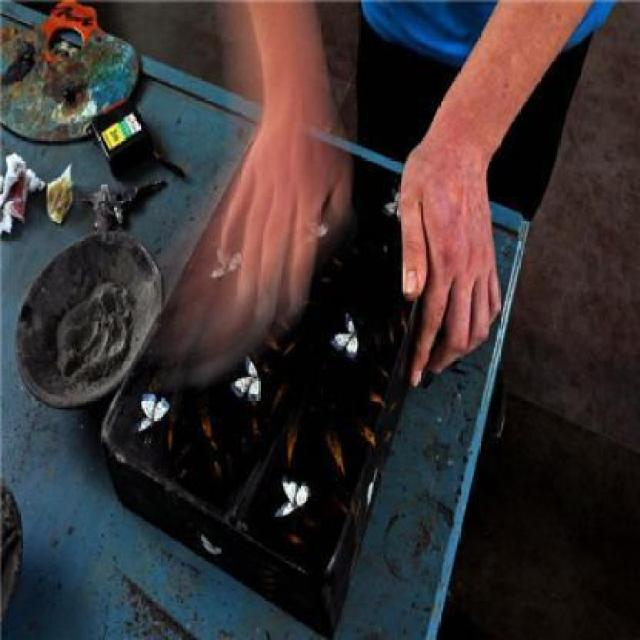hand_noglove: (218, 126, 354, 320), (398, 154, 502, 391)
